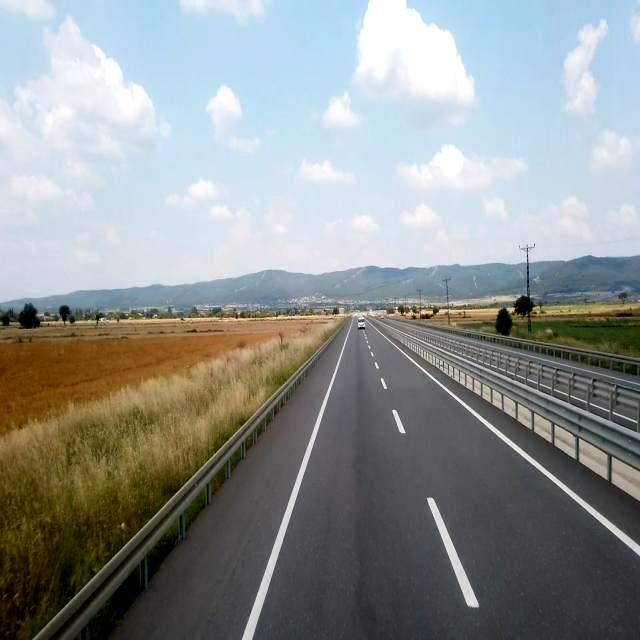lane: (380, 331, 640, 557), (232, 324, 351, 640), (428, 498, 479, 608)
road: (94, 315, 639, 639)
